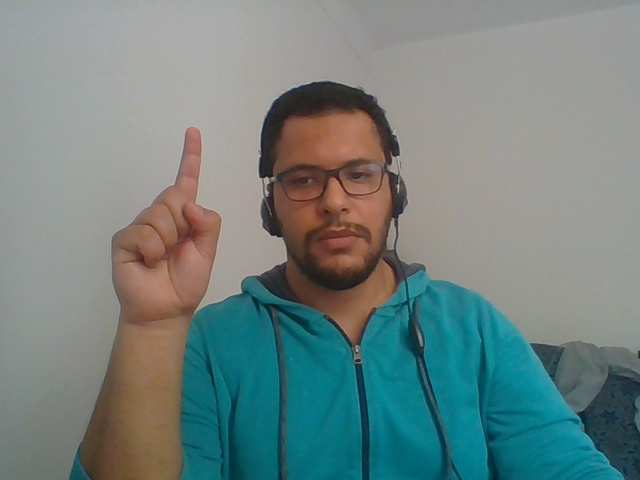handup: (95, 117, 243, 411)
